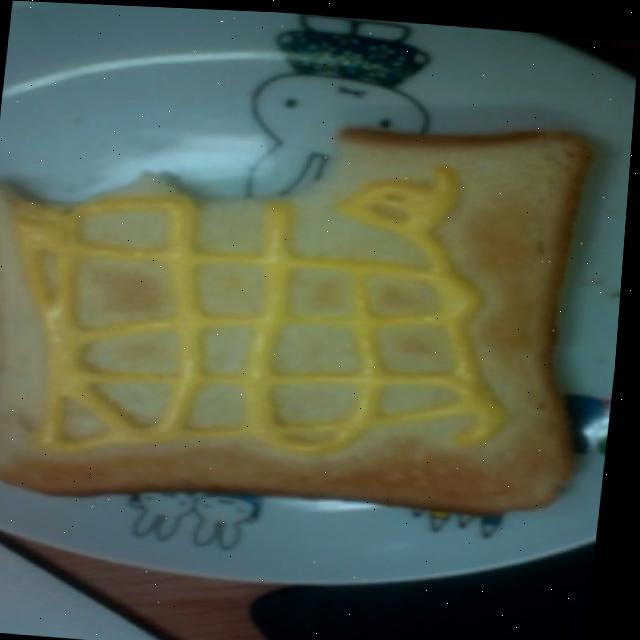面包点心: (0, 79, 616, 545)
